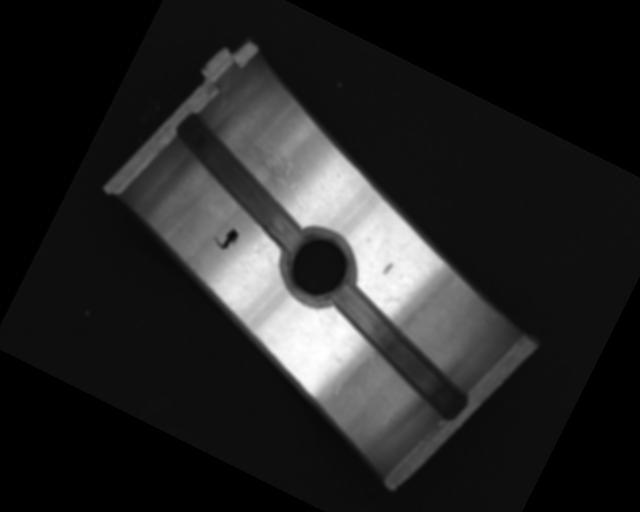blot: (210, 221, 242, 254)
bruise: (381, 261, 394, 277)
gap: (148, 109, 330, 256), (308, 279, 490, 422)
hole: (270, 223, 363, 314)
scratch: (218, 128, 314, 206)
